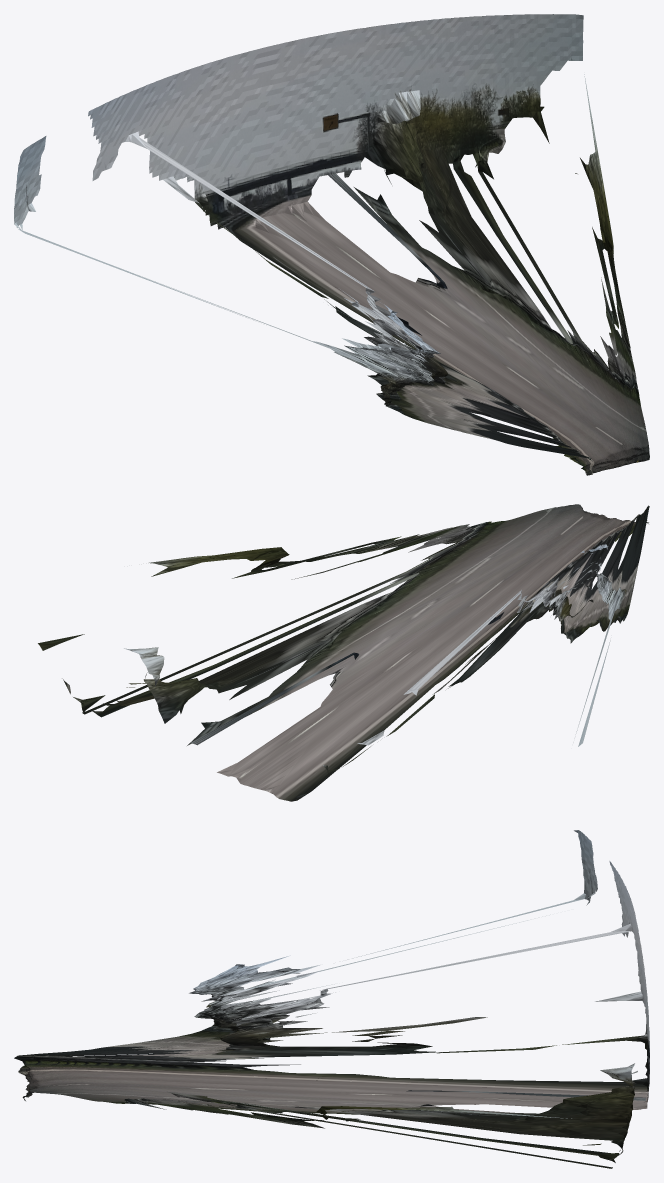
3 renders of one model, top to bottom at view 1: azimuth 30°, elevation 25°; view 2: azimuth 150°, elevation 25°; view 3: azimuth 270°, elevation 25°, orthographic. The views are drawn at different scales.
Parts seen in each view (by area): view 1: defaultobject; view 2: defaultobject; view 3: defaultobject.
Part boxes in pixels (x1=…): defaultobject: x1=14, y1=14, x2=649, y2=475; defaultobject: x1=38, y1=504, x2=649, y2=801; defaultobject: x1=14, y1=830, x2=649, y2=1168.
Size of the model in its own units: 40.95 by 12.47 by 45.06.
1 material, 1 textured.
